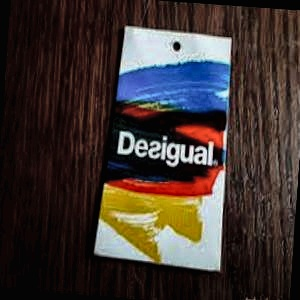desigual: (172, 59, 279, 177)
